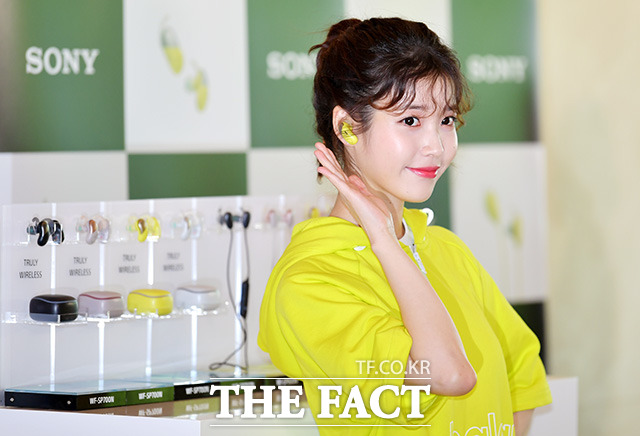earphone: (331, 105, 362, 147)
